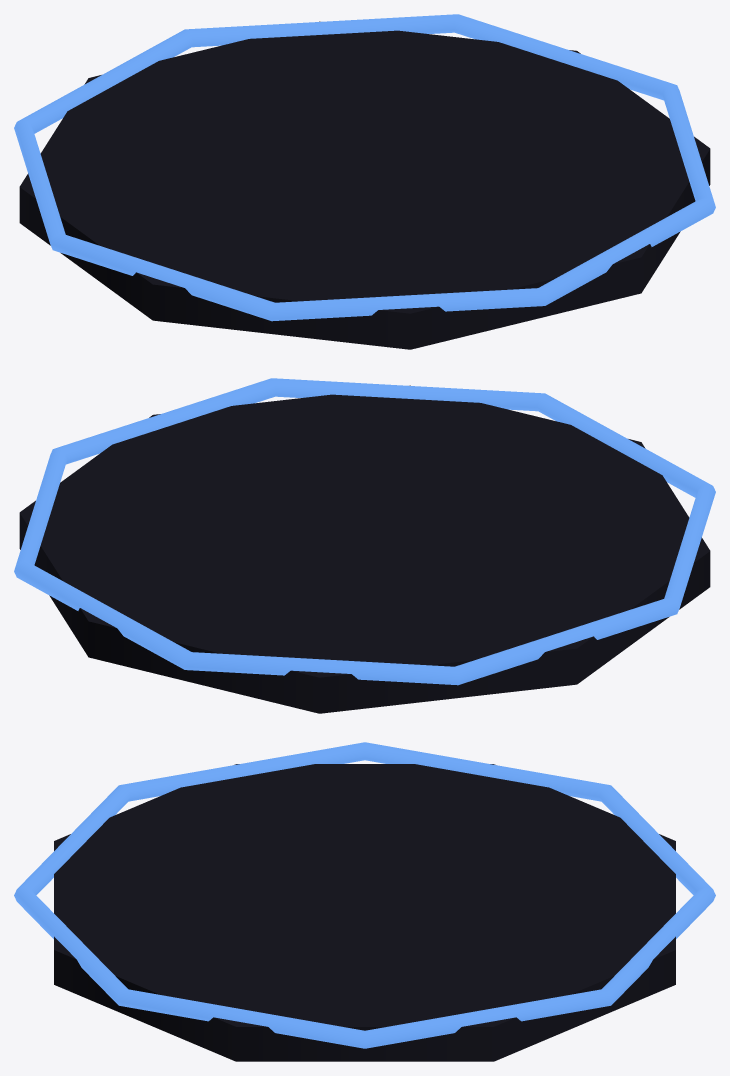
The model's file is cosmic-stage.glb.
3 renders of one model, top to bottom at view 1: azimuth 30°, elevation 25°; view 2: azimuth 150°, elevation 25°; view 3: azimuth 270°, elevation 25°, orthographic. The views are drawn at different scales.
Visible parts, largest first — view 1: CosmicPlatform, CosmicEdgeGlow; view 2: CosmicPlatform, CosmicEdgeGlow; view 3: CosmicPlatform, CosmicEdgeGlow.
Part boxes in pixels (left/top/right/bottom): CosmicPlatform: left=19, top=21, right=710, bottom=349; CosmicEdgeGlow: left=14, top=14, right=715, bottom=321; CosmicPlatform: left=19, top=385, right=710, bottom=713; CosmicEdgeGlow: left=14, top=378, right=715, bottom=685; CosmicPlatform: left=54, top=764, right=675, bottom=1061; CosmicEdgeGlow: left=14, top=742, right=715, bottom=1048.
Size of what is drawn, in the model's own units: 7.3 by 0.5 by 7.3.
